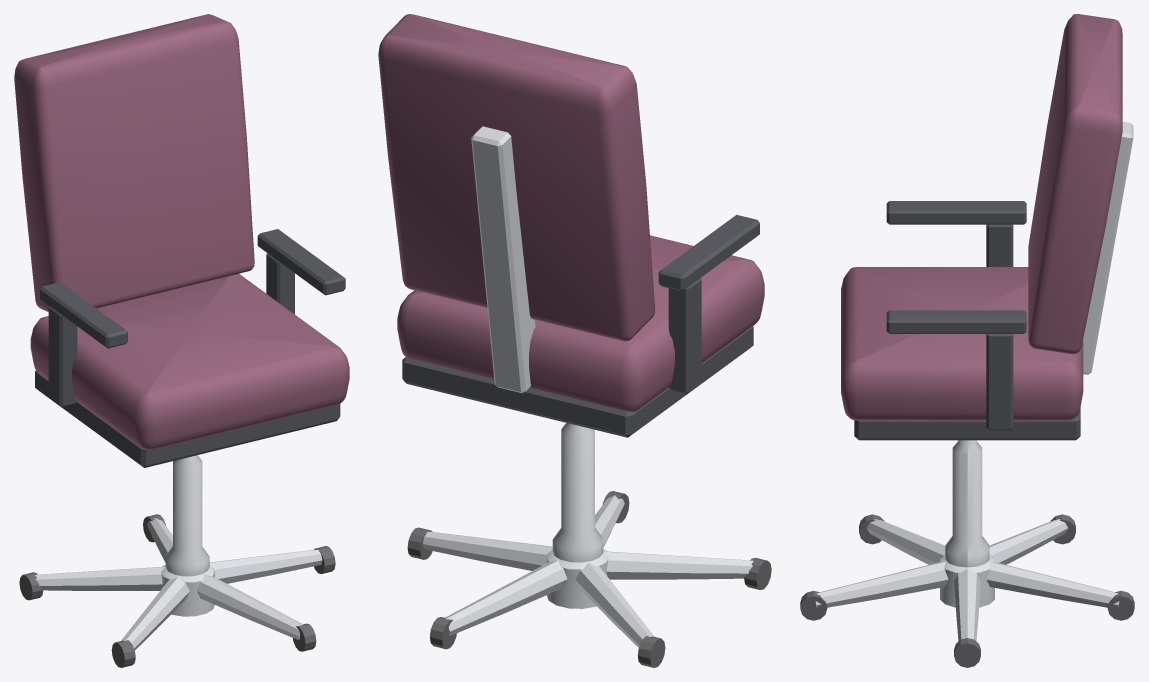
File: cyberpunk-apartment-and-neon-block-swivel-chair-7a18cb96__37808.glb
3 views of the same model, side by side, from view 1: azimuth 30°, elevation 25°; view 2: azimuth 150°, elevation 25°; view 3: azimuth 270°, elevation 25° (orthographic). The views are drawn at different scales.
Visible parts, largest first — view 1: swivel-chair; view 2: swivel-chair; view 3: swivel-chair.
Part boxes in pixels (<box>): swivel-chair: <box>14,14,349,667</box>; swivel-chair: <box>378,14,771,667</box>; swivel-chair: <box>800,14,1134,667</box>.
Size of the model in its own units: 0.577 by 1.1 by 0.621.
